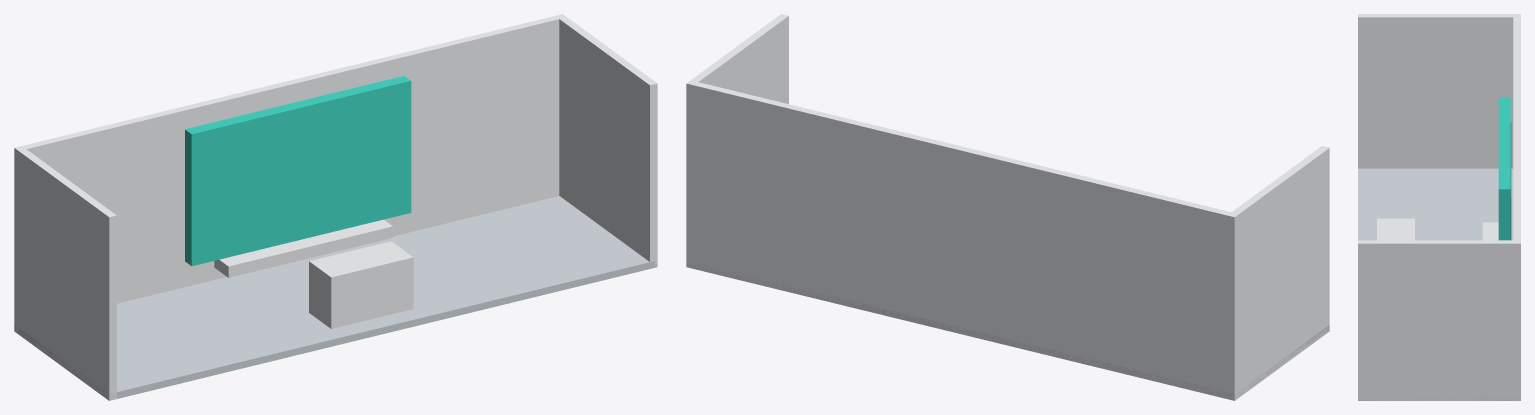
The picture shows the model from 3 angles, left to right: view 1: azimuth 30°, elevation 25°; view 2: azimuth 150°, elevation 25°; view 3: azimuth 270°, elevation 25°; orthographic projection. The views are drawn at different scales.
Visible parts, largest first — view 1: Exhibition Booth Concept; view 2: Exhibition Booth Concept; view 3: Exhibition Booth Concept.
Part boxes in pixels (x1,y1,x2,y2): Exhibition Booth Concept: (14, 14, 657, 400); Exhibition Booth Concept: (686, 14, 1329, 400); Exhibition Booth Concept: (1358, 14, 1520, 400).
Size of the model in its own units: 10 by 3.2 by 3.
